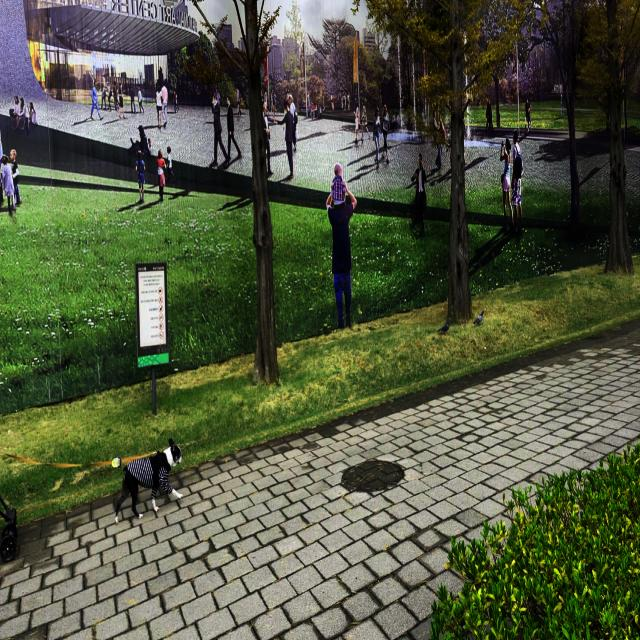Dog: (114, 437, 183, 526)
